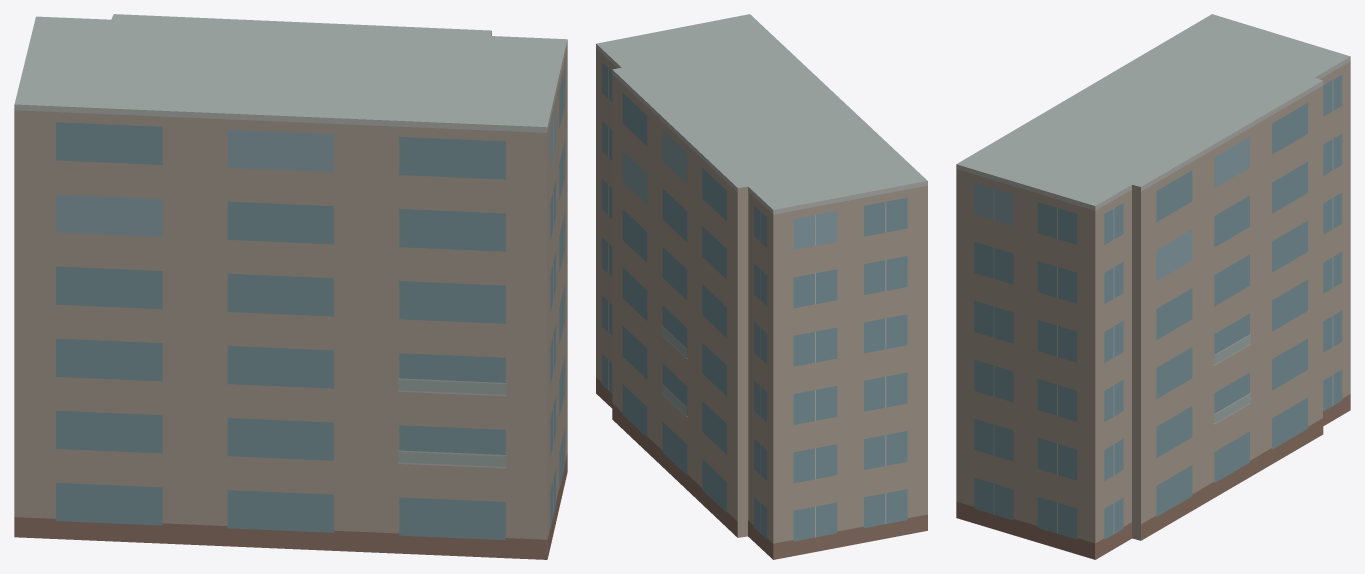
Rendered from survey-upis-32554519.glb.
3 renders of one model, left to right at view 1: azimuth 30°, elevation 25°; view 2: azimuth 150°, elevation 25°; view 3: azimuth 270°, elevation 25°, orthographic. The views are drawn at different scales.
Parts seen in each view (by area): view 1: survey-upis-32554519.tmp; view 2: survey-upis-32554519.tmp; view 3: survey-upis-32554519.tmp.
Boxes of the visible parts, bbox=[...] form: survey-upis-32554519.tmp: bbox=[14, 14, 567, 559]; survey-upis-32554519.tmp: bbox=[596, 14, 927, 559]; survey-upis-32554519.tmp: bbox=[956, 14, 1350, 559].
Size of the model in its own units: 21.33 by 18.3 by 18.5.
